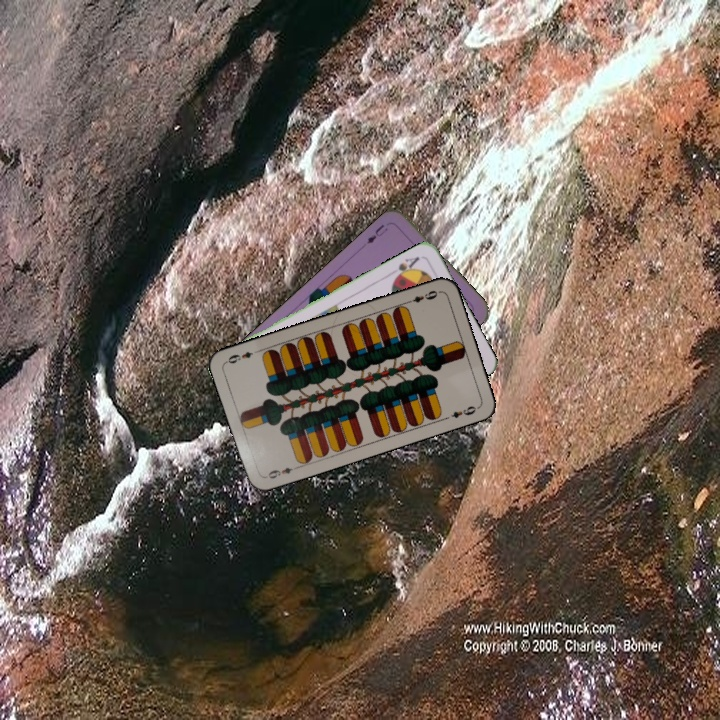E9: (402, 286, 442, 306), (261, 462, 301, 481)
EU: (363, 220, 391, 246)
SA: (390, 252, 422, 283)
